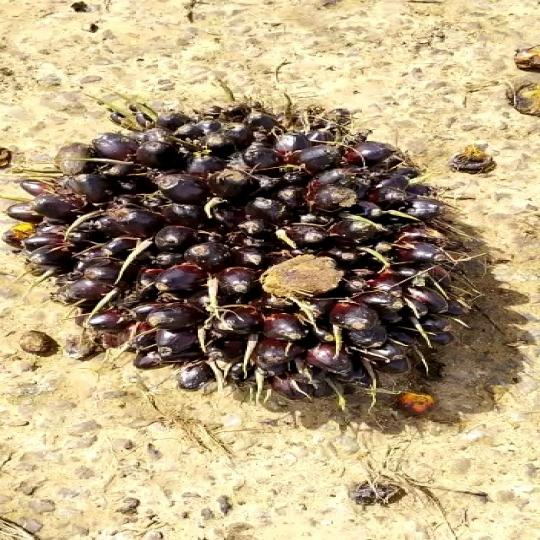mentah: (17, 100, 531, 438)
